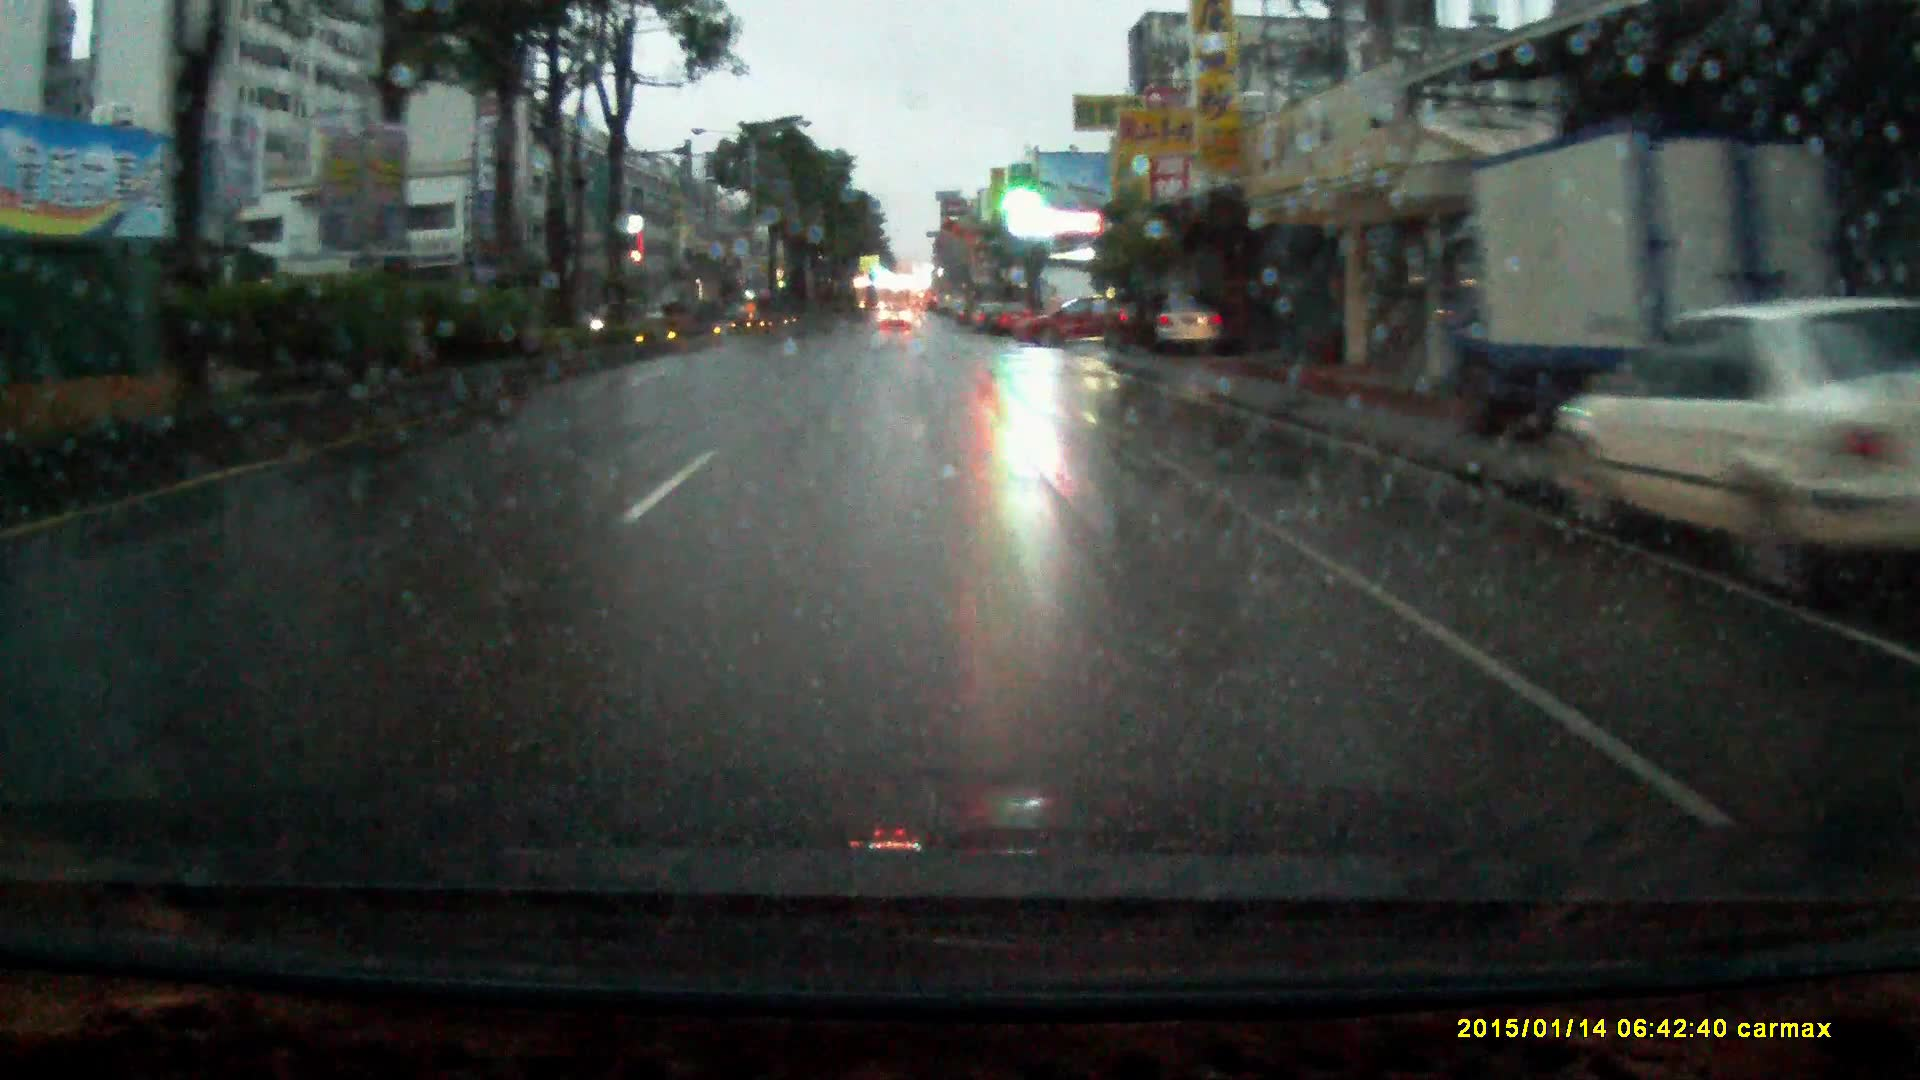vehicle: (1428, 105, 1809, 434), (1553, 301, 1920, 618), (1015, 293, 1131, 345), (1145, 291, 1226, 351), (1100, 293, 1168, 351), (994, 298, 1036, 334), (881, 306, 913, 334)
